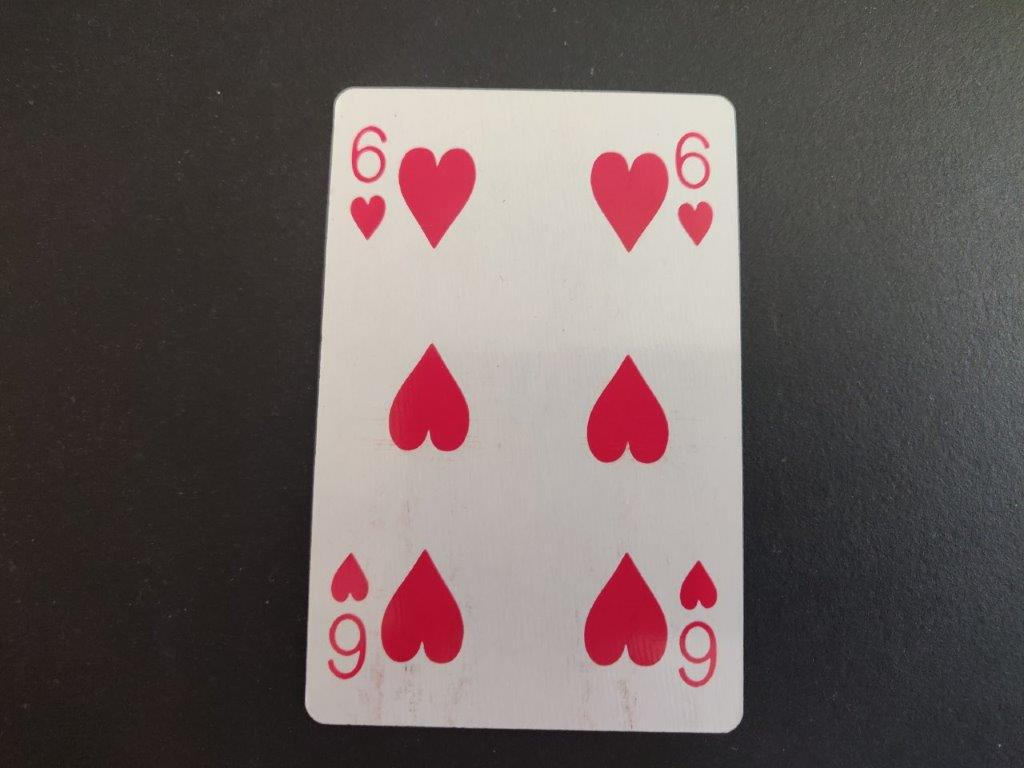6H: (349, 121, 389, 247), (673, 130, 715, 249)
